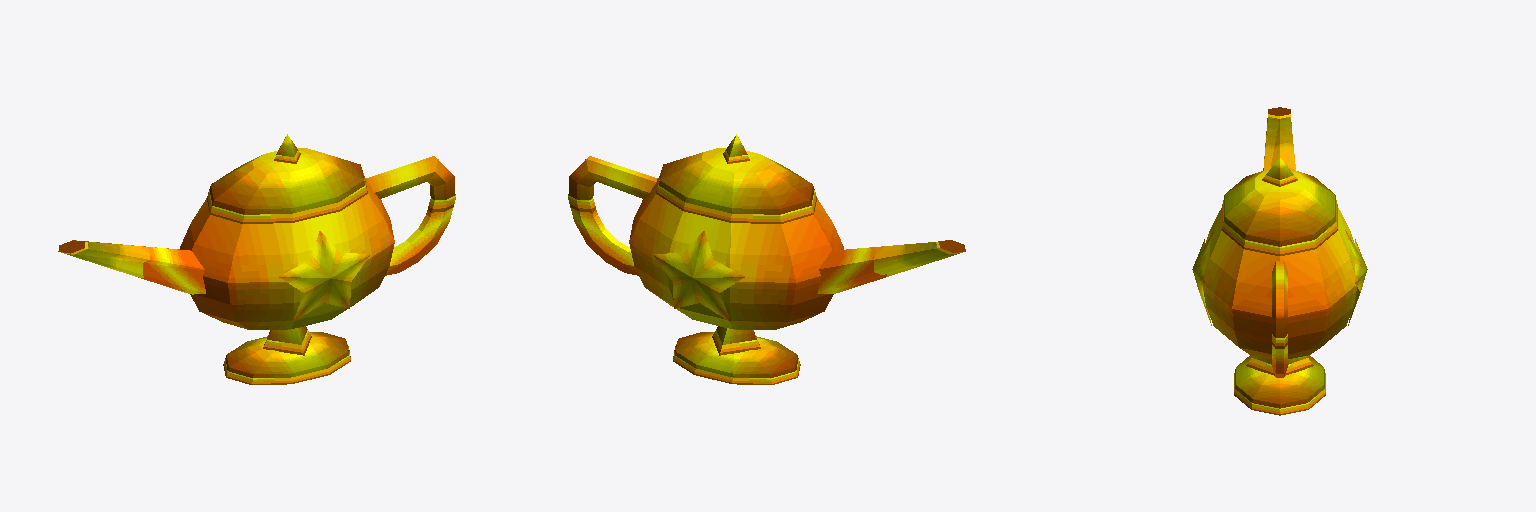
The picture shows the model from 3 angles: view 1: azimuth 30°, elevation 25°; view 2: azimuth 150°, elevation 25°; view 3: azimuth 270°, elevation 25°; orthographic projection.
Parts seen in each view (by area): view 1: Mesh_0341; view 2: Mesh_0341; view 3: Mesh_0341.
Part boxes in pixels (left/top/right/bottom): Mesh_0341: left=58, top=134, right=455, bottom=384; Mesh_0341: left=568, top=134, right=965, bottom=384; Mesh_0341: left=1192, top=107, right=1367, bottom=415.
Size of the model in its own units: 1.4 by 0.7746 by 0.5379.
Materials: 1 (1 with a texture image).